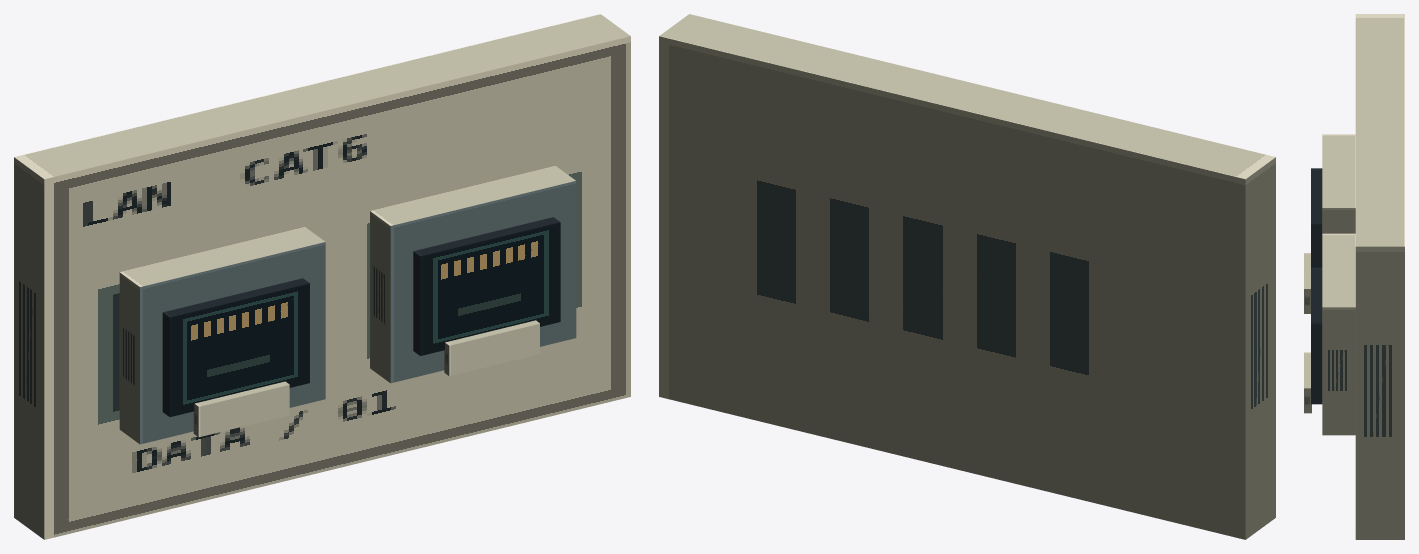
The model's file is toma_rj45_doble.glb.
3 renders of one model, left to right at view 1: azimuth 30°, elevation 25°; view 2: azimuth 150°, elevation 25°; view 3: azimuth 270°, elevation 25°, orthographic. The views are drawn at different scales.
Parts seen in each view (by area): view 1: EQUIPO; view 2: EQUIPO; view 3: EQUIPO.
Part boxes in pixels (box(x1,y1,x2,y2)): EQUIPO: box(14, 14, 630, 539); EQUIPO: box(659, 14, 1275, 539); EQUIPO: box(1304, 14, 1404, 539).
Size of the model in its own units: 0.3658 by 0.2149 by 0.0671.
Materials: 1 (1 with a texture image).
